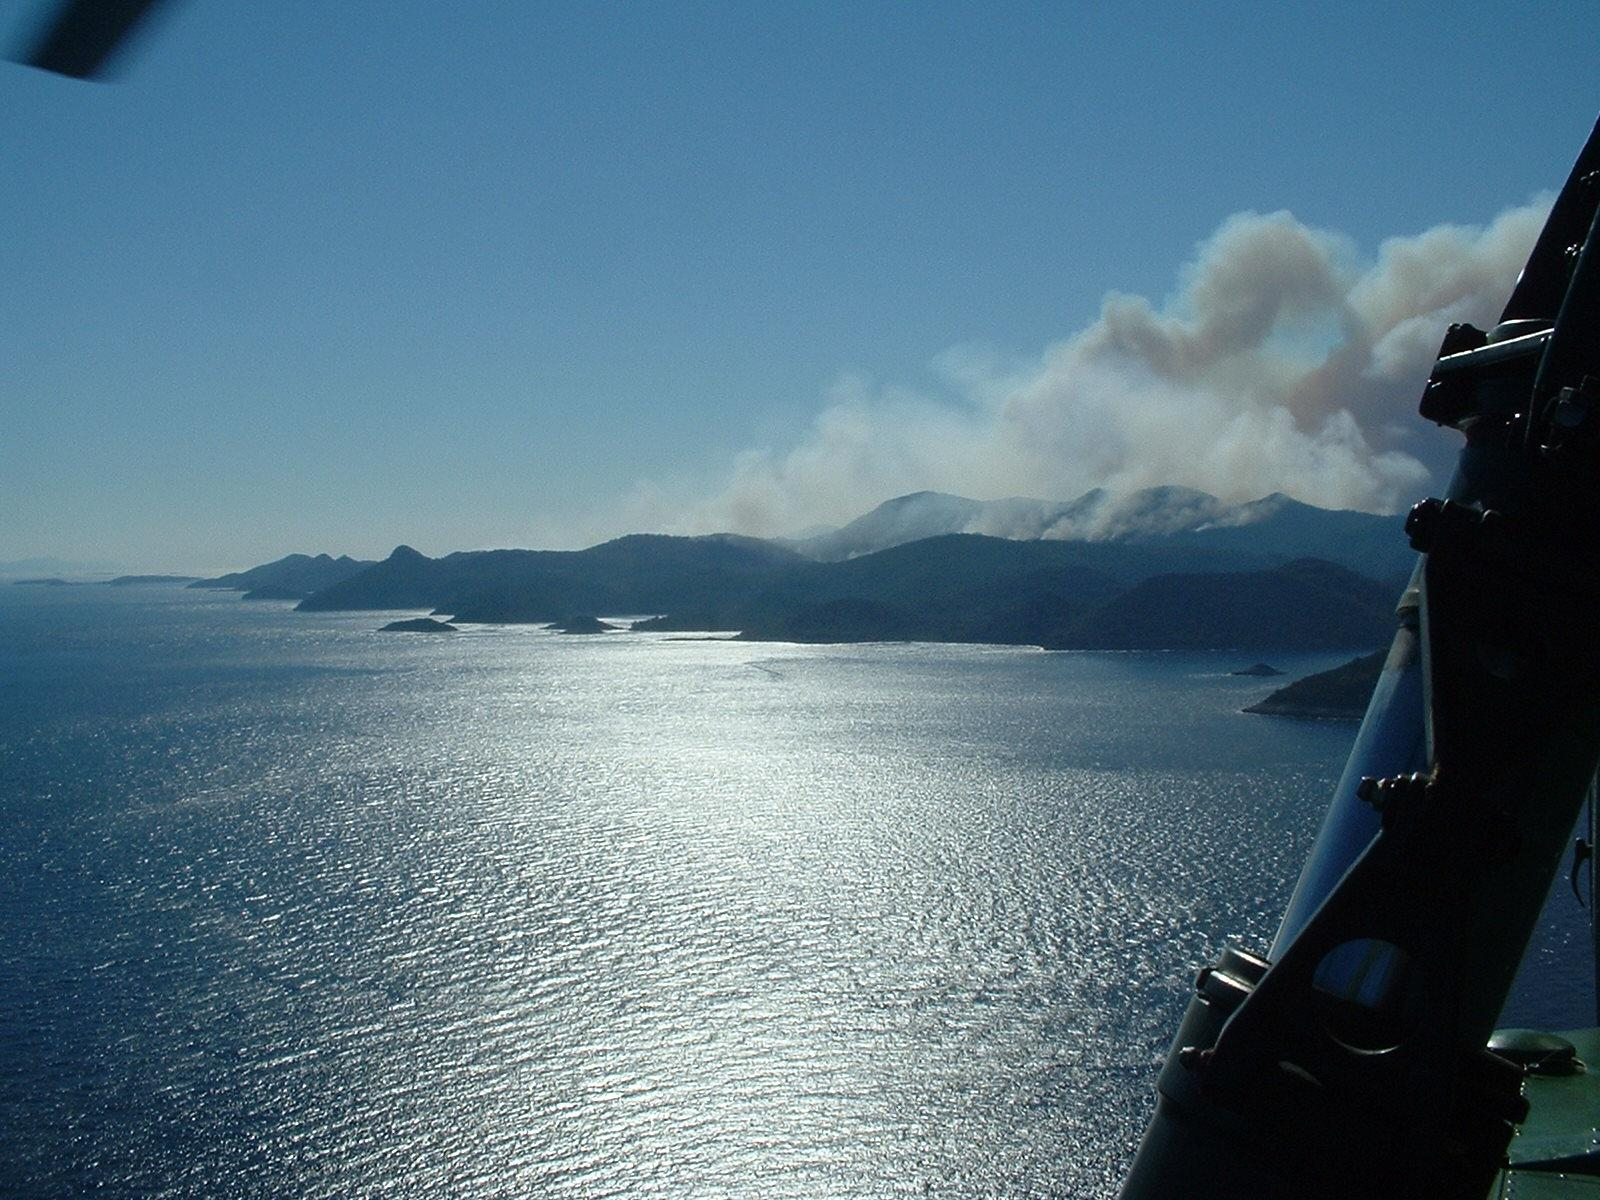Smoke: (486, 163, 1597, 546)
